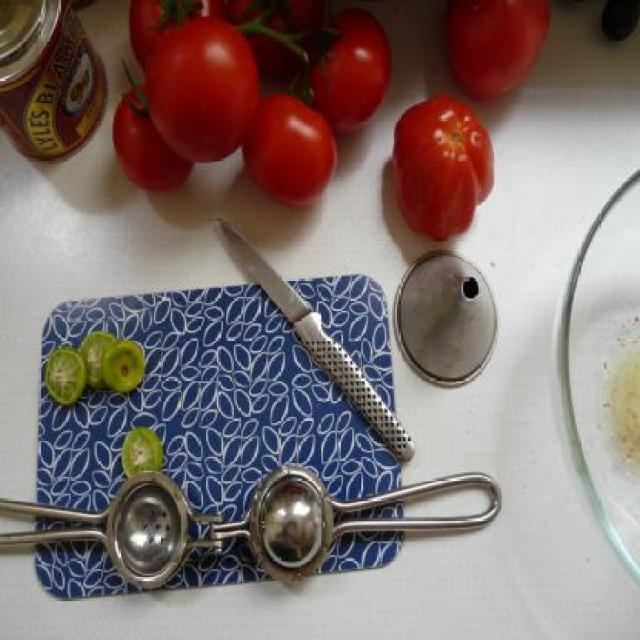Tomato: (129, 2, 262, 166), (264, 7, 390, 135), (392, 94, 496, 240), (241, 68, 336, 210), (111, 59, 195, 195), (444, 0, 553, 95), (123, 0, 220, 74)
